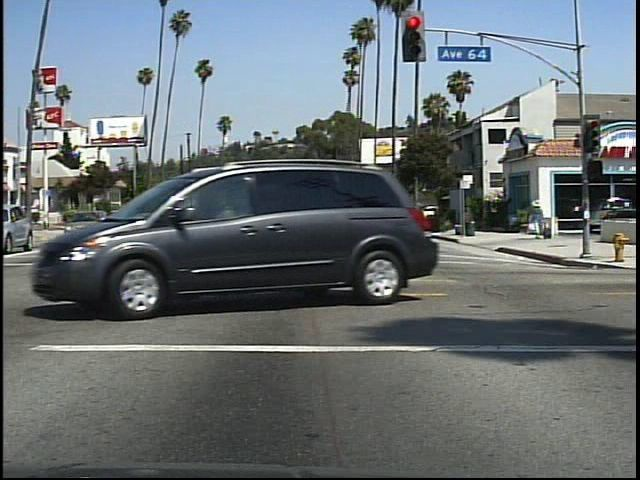person: (530, 195, 548, 245)
